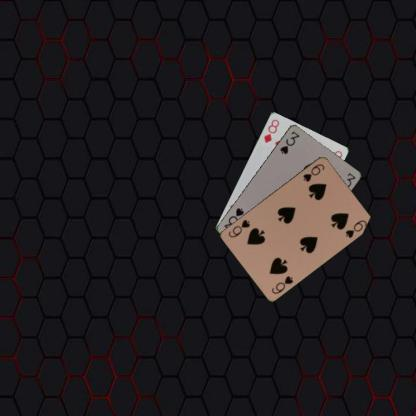3s: (278, 128, 300, 156)
6s: (300, 161, 326, 183), (269, 272, 294, 294)
8d: (261, 117, 280, 144)
